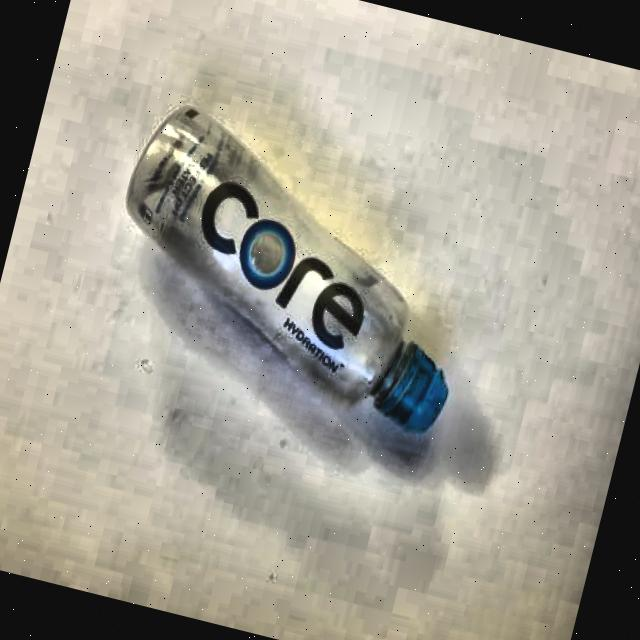plastic: (85, 83, 502, 440)
